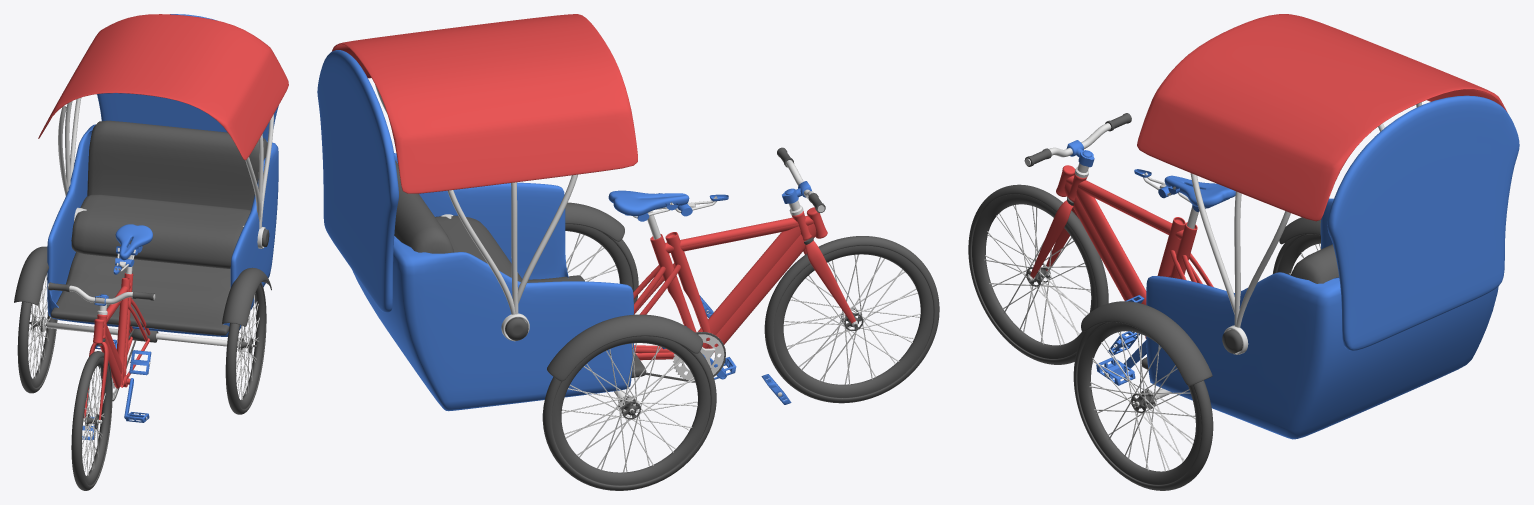
Rendered from rickshaw-3d-animated-icon-1011961839753.glb.
The picture shows the model from 3 angles, left to right: view 1: azimuth 30°, elevation 25°; view 2: azimuth 150°, elevation 25°; view 3: azimuth 270°, elevation 25°; orthographic projection. The views are drawn at different scales.
Parts seen in each view (by area): view 1: Shaft, Front Wheel, Rear Wheel 1, Rear Wheel 2, Steer, Frame, Saddle, body bicycle.017, body bicycle.019, body bicycle.012; view 2: Shaft, Front Wheel, Rear Wheel 2, Frame, Steer, body bicycle.019, Rear Wheel 1, Saddle, body bicycle.017, Crank, body bicycle.018; view 3: Shaft, Front Wheel, Rear Wheel 1, Frame, Steer, body bicycle.019, Saddle, Rear Wheel 2, body bicycle.017, body bicycle.028.
Boxes of the visible parts, bbox=[...] form: Shaft: bbox=[14, 14, 288, 347]; Front Wheel: bbox=[71, 351, 112, 490]; Rear Wheel 1: bbox=[225, 282, 266, 414]; Rear Wheel 2: bbox=[17, 273, 57, 393]; Steer: bbox=[48, 282, 155, 419]; Frame: bbox=[97, 273, 150, 387]; Saddle: bbox=[115, 224, 152, 260]; body bicycle.017: bbox=[114, 278, 130, 385]; body bicycle.019: bbox=[100, 329, 121, 388]; body bicycle.012: bbox=[129, 350, 151, 375]; Shaft: bbox=[317, 14, 702, 411]; Front Wheel: bbox=[764, 236, 939, 403]; Rear Wheel 2: bbox=[542, 336, 716, 490]; Frame: bbox=[633, 211, 811, 360]; Steer: bbox=[777, 147, 855, 323]; body bicycle.019: bbox=[715, 223, 816, 347]; Rear Wheel 1: bbox=[565, 224, 638, 303]; Saddle: bbox=[608, 190, 689, 216]; body bicycle.017: bbox=[665, 232, 715, 352]; Crank: bbox=[673, 332, 724, 380]; body bicycle.018: bbox=[680, 215, 813, 251]; Shaft: bbox=[1081, 14, 1519, 439]; Front Wheel: bbox=[968, 184, 1108, 364]; Rear Wheel 1: bbox=[1073, 322, 1213, 490]; Frame: bbox=[1068, 173, 1213, 304]; Steer: bbox=[1024, 113, 1131, 278]; body bicycle.019: bbox=[1064, 182, 1132, 301]; Saddle: bbox=[1164, 175, 1235, 207]; Rear Wheel 2: bbox=[1273, 234, 1320, 275]; body bicycle.017: bbox=[1157, 217, 1185, 277]; body bicycle.028: bbox=[1096, 357, 1135, 385].
Size of the model in its own units: 2.8 by 2.38 by 2.87.
